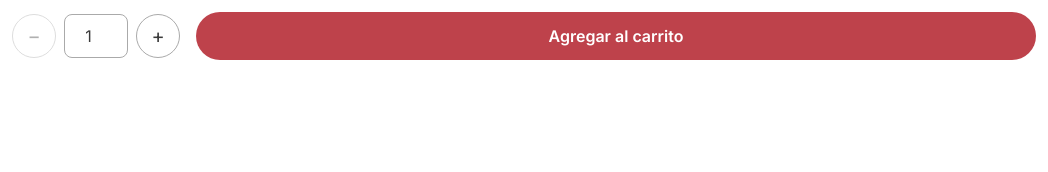
Scenario: AddToCart › shows Magento user errors and does not report success
Click the button "Agregar al carrito" at (616, 36), box [196,12,1036,60]
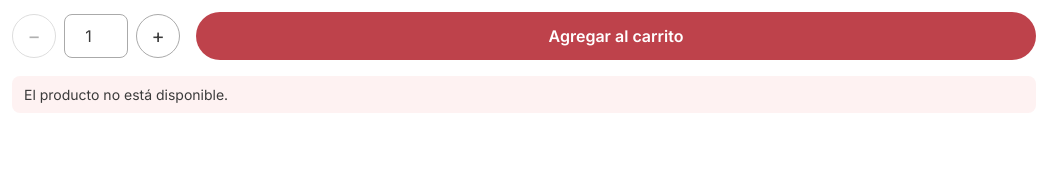
Result: the message reads "El producto no está disponible." at [24,86,228,103]
